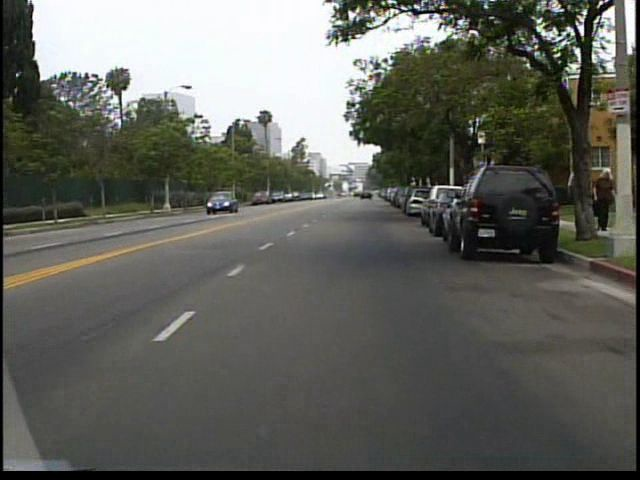person: (588, 163, 620, 239), (563, 159, 585, 234)
